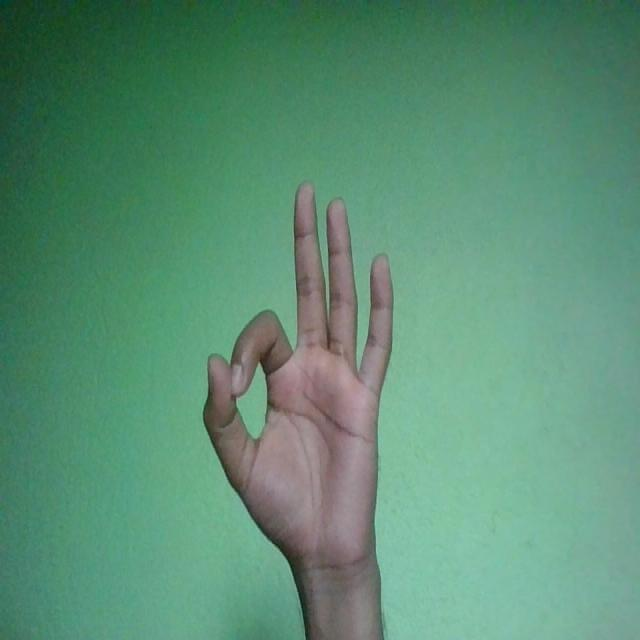Rock On: (202, 180, 393, 582)
